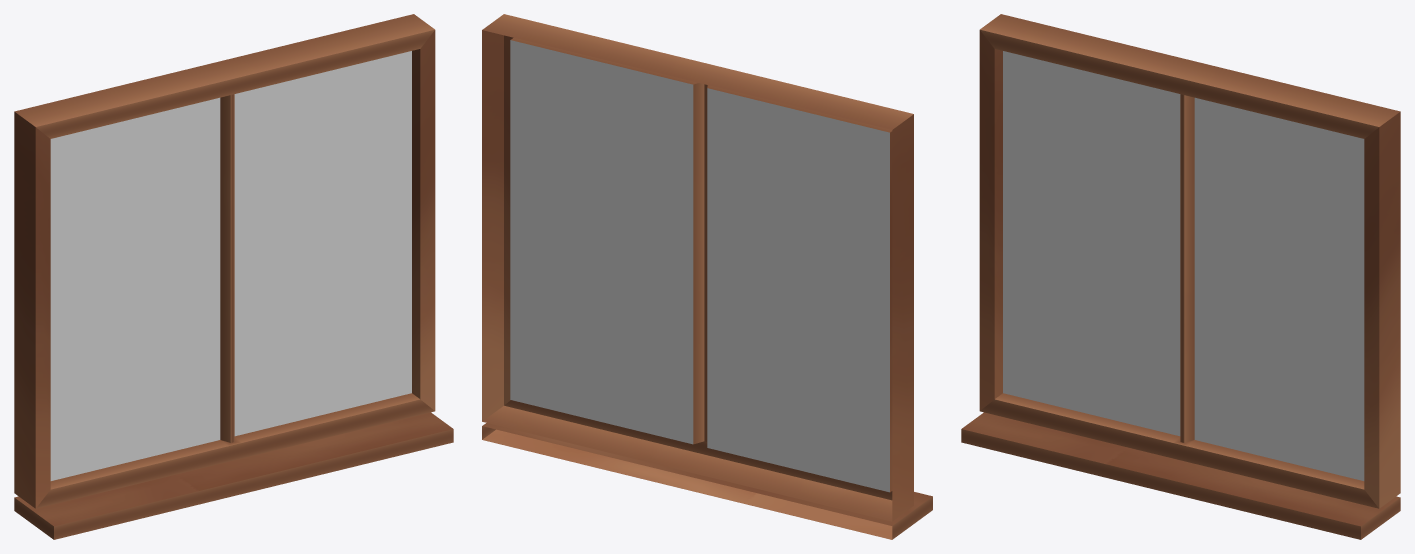
The model's file is windowsetup.fbx.
3 renders of one model, left to right at view 1: azimuth 30°, elevation 25°; view 2: azimuth 150°, elevation 25°; view 3: azimuth 330°, elevation 25°, orthographic. The views are drawn at different scales.
Visible parts, largest first — view 1: 2I.001; view 2: 2I.001; view 3: 2I.001.
Boxes of the visible parts, <box> form: 2I.001: <box>14,14,453,539</box>; 2I.001: <box>482,14,932,539</box>; 2I.001: <box>961,14,1400,539</box>.
Bounding box in the file's own units: 140 × 134 × 24.06.
